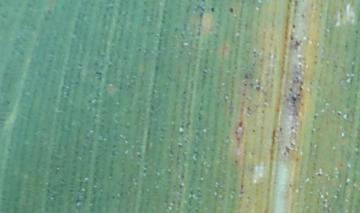tarspot: (194, 4, 206, 19), (93, 71, 102, 82), (226, 6, 235, 14), (208, 5, 215, 14), (290, 22, 297, 31), (153, 63, 160, 72), (255, 84, 262, 92), (176, 142, 184, 149), (290, 95, 297, 102), (237, 120, 243, 128), (242, 81, 248, 89), (181, 88, 187, 96), (289, 33, 294, 42), (242, 72, 248, 79)
